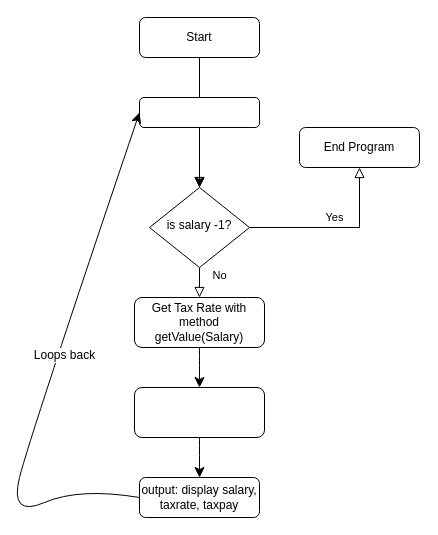
Some shapes in this 438 by 535 pixel diagram are drawn without their labels. Each missing label, with the centre of its shape:
"compute calculation taxToPay = salary * taxRate" belongs at point 199,412.
"Input salary" belongs at point 199,112.
